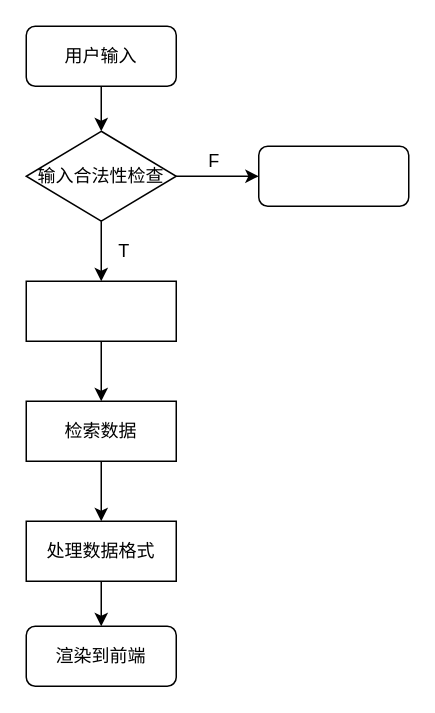
The diagram is 435 pixels wide and 713 high, and some of its shapes have lost their labels. Here are the shapes that lost their labels. From the top down, the box of each, then its label:
(257, 145, 409, 206): 提示输入格式错误
(25, 280, 176, 341): 分词
